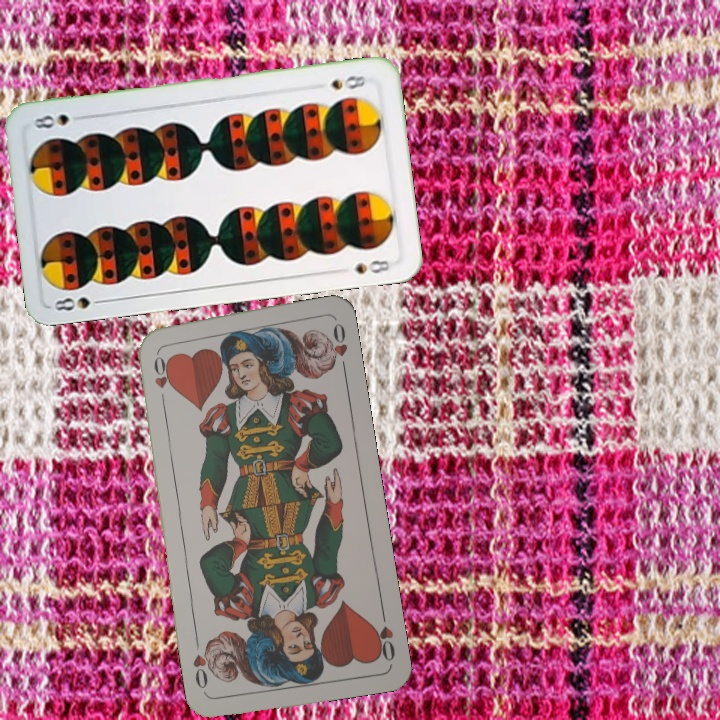HO: (369, 606, 398, 664), (149, 348, 170, 407)
S8: (51, 293, 109, 313), (327, 71, 368, 93)
